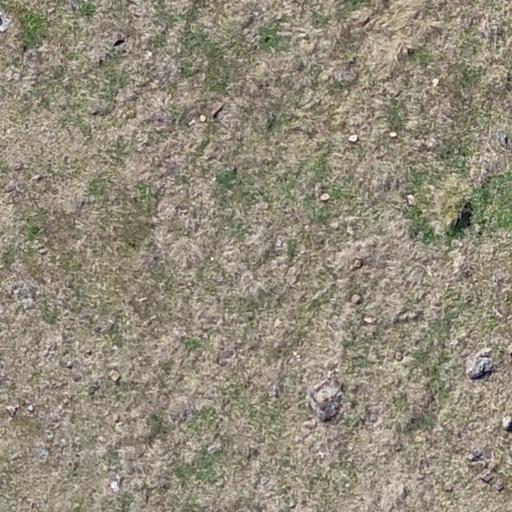stone: (308, 383, 344, 419), (467, 351, 496, 382), (496, 130, 510, 150), (188, 115, 206, 126), (501, 414, 512, 432), (208, 442, 224, 454), (108, 370, 121, 383), (346, 132, 359, 144), (478, 470, 492, 481), (350, 293, 362, 305), (406, 194, 416, 206), (442, 482, 454, 492), (494, 480, 504, 491), (31, 173, 42, 183), (113, 30, 124, 40), (354, 258, 364, 268), (467, 452, 477, 462), (320, 193, 330, 202), (6, 406, 16, 415), (416, 473, 426, 482), (364, 316, 374, 324), (27, 403, 35, 413), (39, 247, 49, 255), (13, 162, 22, 170), (388, 131, 398, 138), (474, 449, 482, 457), (432, 78, 439, 87), (66, 360, 74, 367), (113, 414, 120, 422), (424, 469, 432, 474)
